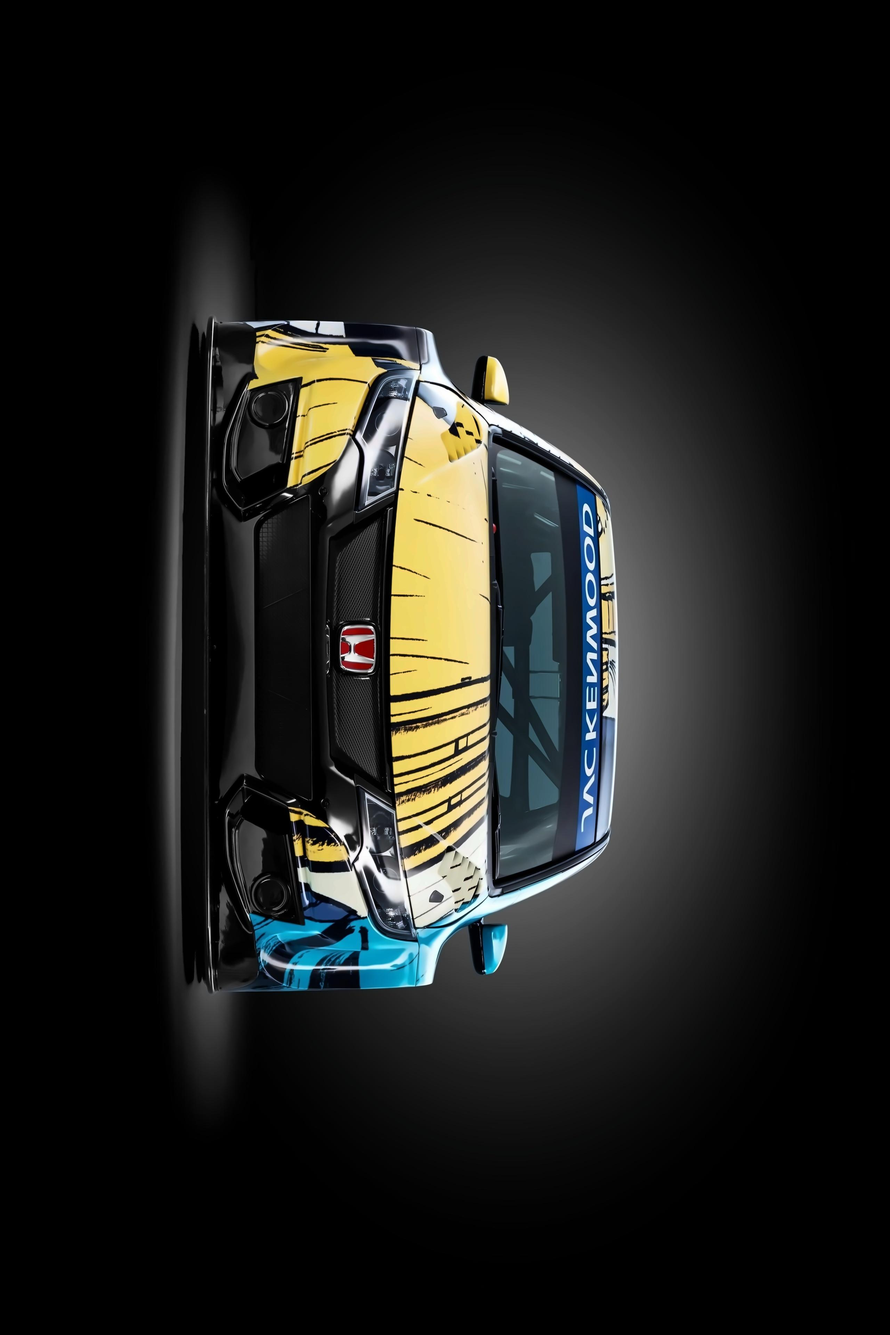Car hood: (362, 363, 508, 951)
Front bumper: (198, 301, 381, 1004)
Headlight - -L-: (322, 767, 417, 948)
Headlight - -R-: (315, 362, 426, 540)
Side mirror - -L-: (456, 913, 519, 979)
Side mirror - -R-: (470, 351, 514, 415)
